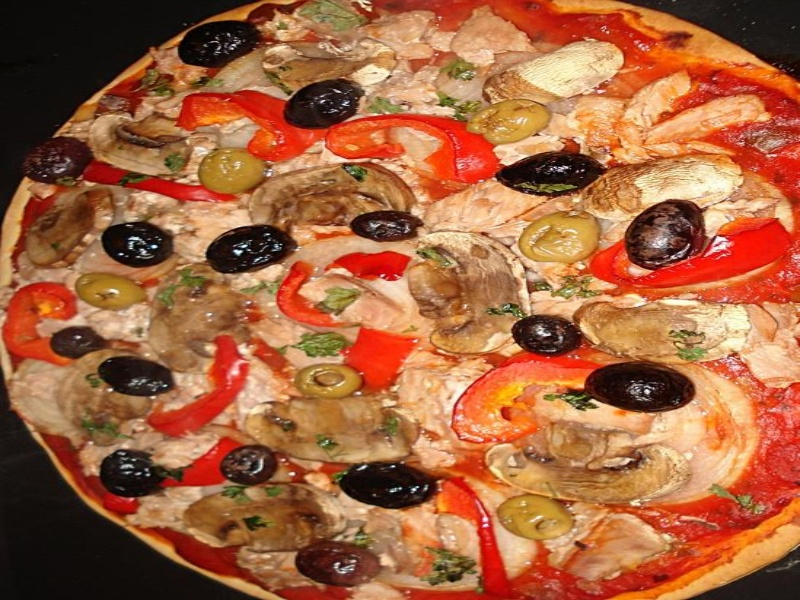champignon: (480, 410, 695, 510), (404, 230, 538, 363), (247, 395, 424, 468)
olive: (612, 189, 715, 278), (574, 355, 712, 417), (336, 456, 452, 523), (200, 221, 305, 289), (282, 532, 400, 592), (177, 13, 279, 78), (488, 490, 601, 547), (274, 78, 377, 137), (515, 210, 610, 273), (500, 147, 609, 201), (67, 266, 167, 323), (87, 444, 181, 504), (94, 215, 190, 273), (461, 90, 551, 150), (194, 141, 279, 201), (94, 355, 185, 409), (18, 134, 104, 191), (506, 309, 588, 367), (335, 201, 430, 246), (290, 363, 373, 413), (216, 438, 286, 489), (45, 323, 116, 365)
